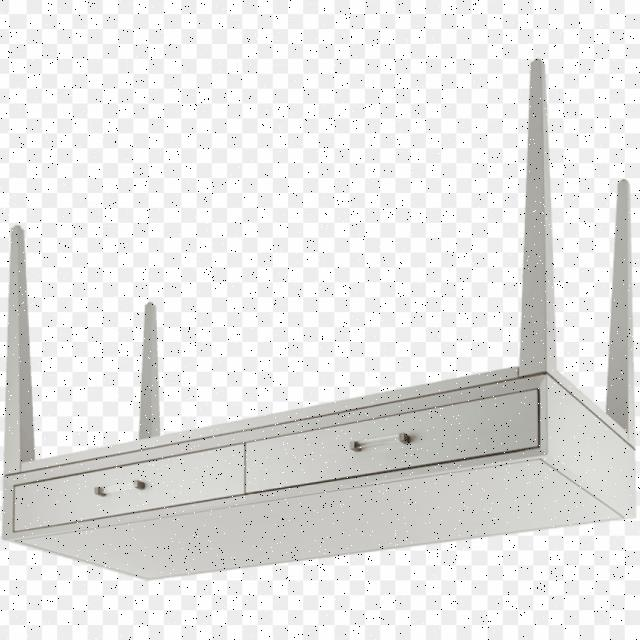Table: (0, 60, 638, 640)
